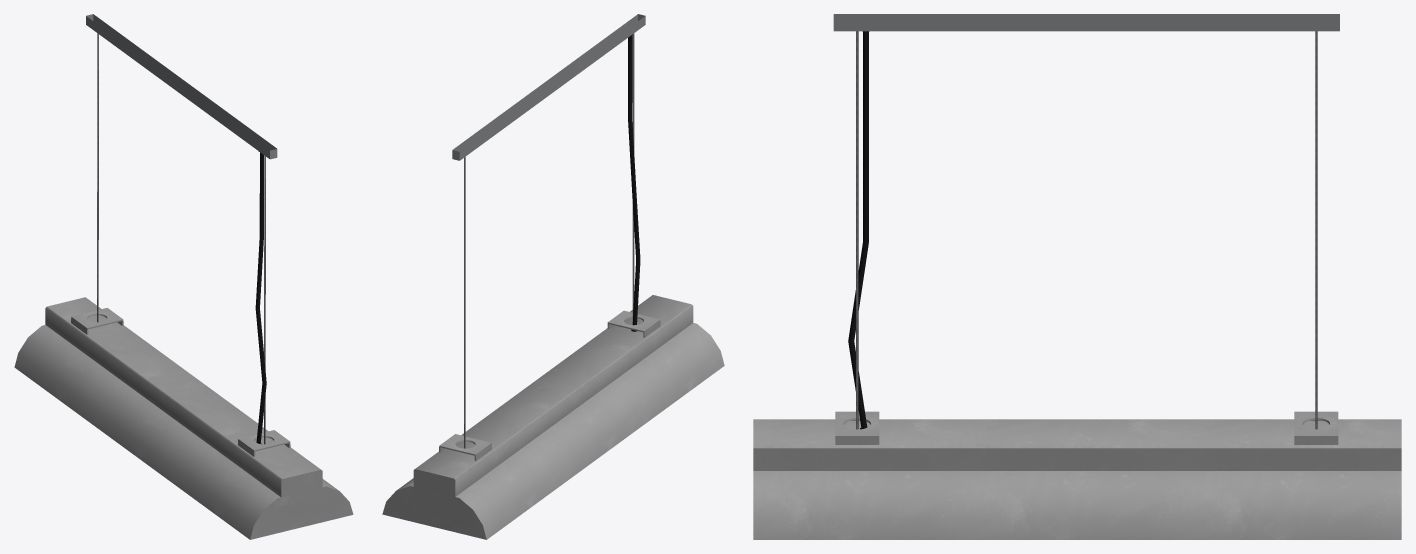
Rendered from LampHanging_A.fbx.
3 views of the same model, side by side, from view 1: azimuth 30°, elevation 25°; view 2: azimuth 150°, elevation 25°; view 3: azimuth 270°, elevation 25° (orthographic). The views are drawn at different scales.
Parts seen in each view (by area): view 1: LampHanging_A; view 2: LampHanging_A; view 3: LampHanging_A.
Boxes of the visible parts, <box> form: LampHanging_A: <box>14,14,353,539</box>; LampHanging_A: <box>382,14,724,539</box>; LampHanging_A: <box>753,14,1401,539</box>.
Size of the model in its own units: 24.31 by 80.01 by 96.
